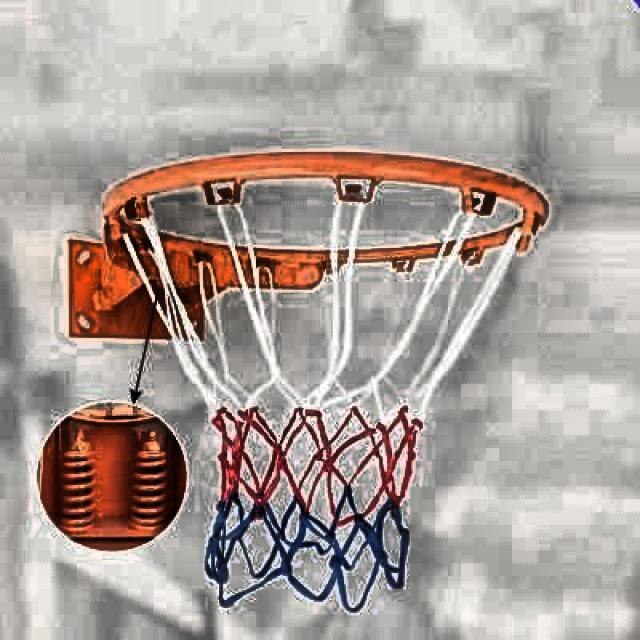rim: (118, 152, 548, 610)
